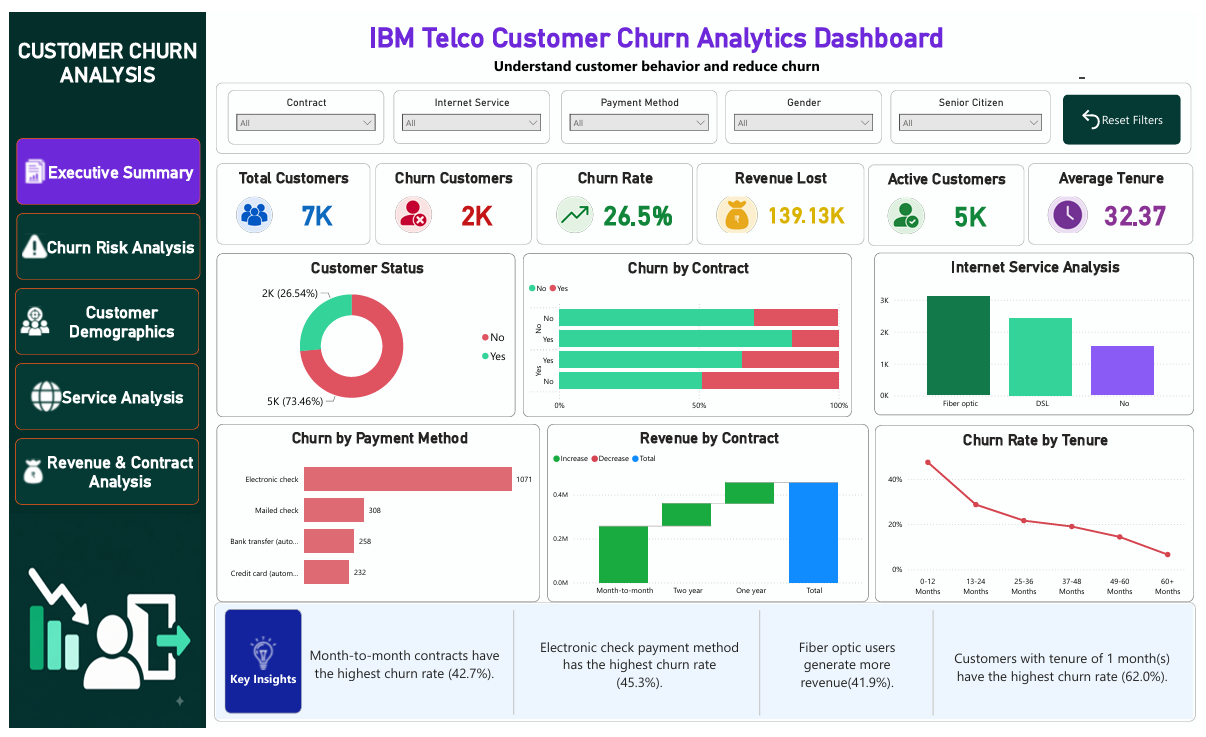

The page's visual inventory and layout, read from the dashboard file:
{"tool":"powerbi","page":{"name":"Executive Summary","canvas":[1900,1145],"ordinal":0},"visuals":[{"type":"shape","box":[0,0,315,1400],"z":0,"group":"g3"},{"type":"textbox","title":"IBM Telco Customer Churn Analytics Dashboard","box":[345.9,16.1,1380,96],"z":0},{"type":"shape","box":[331.4,113.1,1560,114],"z":0,"group":"g2"},{"type":"slicer","title":"Senior Citizen","fields":{"Values":["DimCustomer.SeniorCitizen"]},"box":[1410,125,256,86],"z":1000,"group":"g2"},{"type":"actionButton","box":[12,202,294,106],"z":1000,"group":"g3"},{"type":"cardVisual","title":"Total Customers","fields":{"Data":["Measure_tbl.Total Customers"]},"box":[332,242,246,130],"z":1000},{"type":"slicer","title":"Contract","fields":{"Values":["DimContract.Contract"]},"box":[350.4,125,250,86.7],"z":2000,"group":"g2"},{"type":"cardVisual","title":"Churn Customers","fields":{"Data":["Measure_tbl.Churn Customers"]},"box":[586,242,250,130],"z":2000},{"type":"actionButton","box":[12,322,294,106],"z":2000,"group":"g3"},{"type":"actionButton","box":[1686,132,188,80],"z":3000,"group":"g2"},{"type":"cardVisual","title":"Churn Rate","fields":{"Data":["Measure_tbl.Churn Rate"]},"box":[844,242,250,130],"z":3000},{"type":"actionButton","box":[10,442,294,106],"z":3000,"group":"g3"},{"type":"slicer","title":"Internet Service","fields":{"Values":["DimService.InternetService"]},"box":[615.4,125,250,86],"z":4000,"group":"g2"},{"type":"cardVisual","title":"Revenue Lost","fields":{"Data":["Measure_tbl.Revenue Lost"]},"box":[1100,242,268,130],"z":4000},{"type":"actionButton","box":[10,562,294,106],"z":4000,"group":"g3"},{"type":"slicer","title":"Payment Method","fields":{"Values":["DimPaymentMethod.PaymentMethod"]},"box":[883.4,125,250,86],"z":5000,"group":"g2"},{"type":"cardVisual","title":"Active Customers","fields":{"Data":["Measure_tbl.Active Customers"]},"box":[1374,244,250,130],"z":5000},{"type":"actionButton","box":[10,682,294,106],"z":5000,"group":"g3"},{"type":"slicer","title":"Gender","fields":{"Values":["DimCustomer.gender"]},"box":[1146.6,125,250,86],"z":6000,"group":"g2"},{"type":"cardVisual","title":"Average Tenure","fields":{"Data":["Measure_tbl.Average Tenure"]},"box":[1630,242,264,130],"z":6000},{"type":"clusteredBarChart","title":"Churn by Payment Method","fields":{"Y":["Measure_tbl.Churn Customers"],"Category":["DimPaymentMethod.PaymentMethod"]},"box":[332.3,658.8,516.3,284.9],"z":7000},{"type":"hundredPercentStackedBarChart","title":"Churn by Contract","fields":{"Category":["DimCustomer.SeniorCitizen","DimCustomer.Partner","DimCustomer.Dependents"],"Series":["FactCustomer.Churn"],"Y":["Measure_tbl.Total Customers"]},"box":[822,386,526,262],"z":8000},{"type":"clusteredColumnChart","title":"Internet Service Analysis","fields":{"Category":["DimService.InternetService"],"Y":["Measure_tbl.Total Customers"]},"box":[1383.8,385.4,510.8,259.9],"z":9000},{"type":"waterfallChart","title":"Revenue by Contract","fields":{"Category":["DimContract.Contract"],"Y":["Measure_tbl.Monthly Revenue"]},"box":[860.5,658.8,514.3,284.9],"z":10000},{"type":"lineChart","title":"Churn Rate by Tenure","fields":{"Category":["FactCustomer.Tenure Group"],"Y":["Measure_tbl.Churn Rate"]},"box":[1384.8,660.7,510.4,282.9],"z":11000},{"type":"donutChart","title":"Customer Status","fields":{"Category":["FactCustomer.Churn"],"Y":["Measure_tbl.Total Customers"]},"box":[332,386,478,262],"z":12000},{"type":"group","id":"g1","title":"Group 4","box":[328.4,943.6,1570.7,191.9],"z":13000},{"type":"group","id":"g2","title":"Group 1","box":[331.4,113.1,1560,114],"z":14000},{"type":"group","id":"g3","title":"Group 2","box":[0,0,315,1400],"z":15000},{"type":"textbox","box":[0,38,316,116],"z":16000},{"type":"image","box":[0,803.2,306.6,342.2],"z":16001,"group":"g3"},{"type":"shape","box":[328.4,943.6,1570.2,191.4],"z":21000,"group":"g1"},{"type":"cardVisual","fields":{"Data":["Measure_tbl.Top Contract Insight"]},"box":[448.8,951.7,368.6,177.9],"z":22000,"group":"g1"},{"type":"cardVisual","fields":{"Data":["Measure_tbl.Top Payment Insight"]},"box":[817.4,951.7,383.3,177.9],"z":23000,"group":"g1"},{"type":"cardVisual","fields":{"Data":["Measure_tbl.Top Internet Insight"]},"box":[1190.9,951.7,299.8,177.9],"z":24000,"group":"g1"},{"type":"cardVisual","fields":{"Data":["Measure_tbl.Tenure Insight"]},"box":[1476,957.1,417.7,177.9],"z":25000,"group":"g1"},{"type":"shape","box":[755,956.5,104.2,167.1],"z":26000,"group":"g1"},{"type":"shape","box":[1149.1,957.1,103.2,167.1],"z":27000,"group":"g1"},{"type":"shape","box":[1426.8,957.1,103.2,167.1],"z":28000,"group":"g1"},{"type":"actionButton","box":[345.6,954.4,122.9,167.1],"z":29000,"group":"g1"}]}

Visuals, with their boxes on the page's 1900x1145 design canvas (x1, y1, x2, y2). These are canvas units, not pixel positions in the 1206x737 screenshot, which may show the page scaled, cropped or inside an application window:
shape: 0 0 315 1400
"IBM Telco Customer Churn Analytics Dashboard" textbox: 346 16 1726 112
shape: 331 113 1891 227
"Senior Citizen" slicer: 1410 125 1666 211
actionButton: 12 202 306 308
"Total Customers" cardVisual: 332 242 578 372
"Contract" slicer: 350 125 600 212
"Churn Customers" cardVisual: 586 242 836 372
actionButton: 12 322 306 428
actionButton: 1686 132 1874 212
"Churn Rate" cardVisual: 844 242 1094 372
actionButton: 10 442 304 548
"Internet Service" slicer: 615 125 865 211
"Revenue Lost" cardVisual: 1100 242 1368 372
actionButton: 10 562 304 668
"Payment Method" slicer: 883 125 1133 211
"Active Customers" cardVisual: 1374 244 1624 374
actionButton: 10 682 304 788
"Gender" slicer: 1147 125 1397 211
"Average Tenure" cardVisual: 1630 242 1894 372
"Churn by Payment Method" clusteredBarChart: 332 659 849 944
"Churn by Contract" hundredPercentStackedBarChart: 822 386 1348 648
"Internet Service Analysis" clusteredColumnChart: 1384 385 1895 645
"Revenue by Contract" waterfallChart: 860 659 1375 944
"Churn Rate by Tenure" lineChart: 1385 661 1895 944
"Customer Status" donutChart: 332 386 810 648
"Group 4" group: 328 944 1899 1136
"Group 1" group: 331 113 1891 227
"Group 2" group: 0 0 315 1400
textbox: 0 38 316 154
image: 0 803 307 1145
shape: 328 944 1899 1135
cardVisual - Measure_tbl.Top Contract Insight: 449 952 817 1130
cardVisual - Measure_tbl.Top Payment Insight: 817 952 1201 1130
cardVisual - Measure_tbl.Top Internet Insight: 1191 952 1491 1130
cardVisual - Measure_tbl.Tenure Insight: 1476 957 1894 1135
shape: 755 956 859 1124
shape: 1149 957 1252 1124
shape: 1427 957 1530 1124
actionButton: 346 954 468 1122
